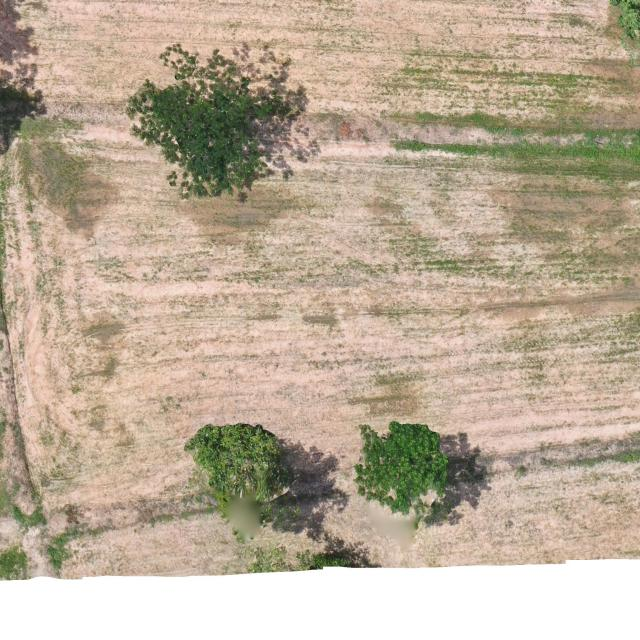Tree: (123, 42, 289, 205), (182, 421, 287, 546), (352, 420, 452, 516)
